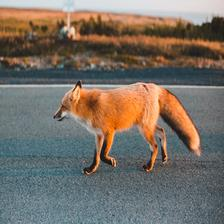fox: (52, 73, 207, 188)
